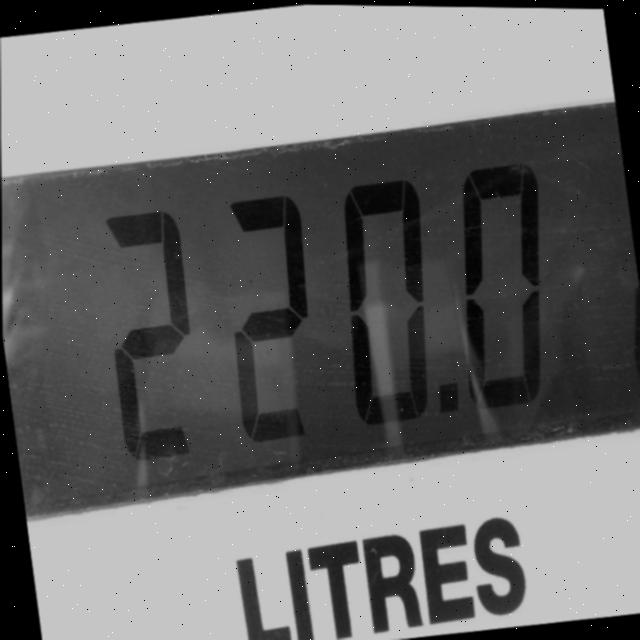.: (425, 365, 479, 442)
0: (434, 135, 586, 432), (317, 150, 457, 445)
2: (75, 193, 227, 470), (196, 175, 337, 457)
